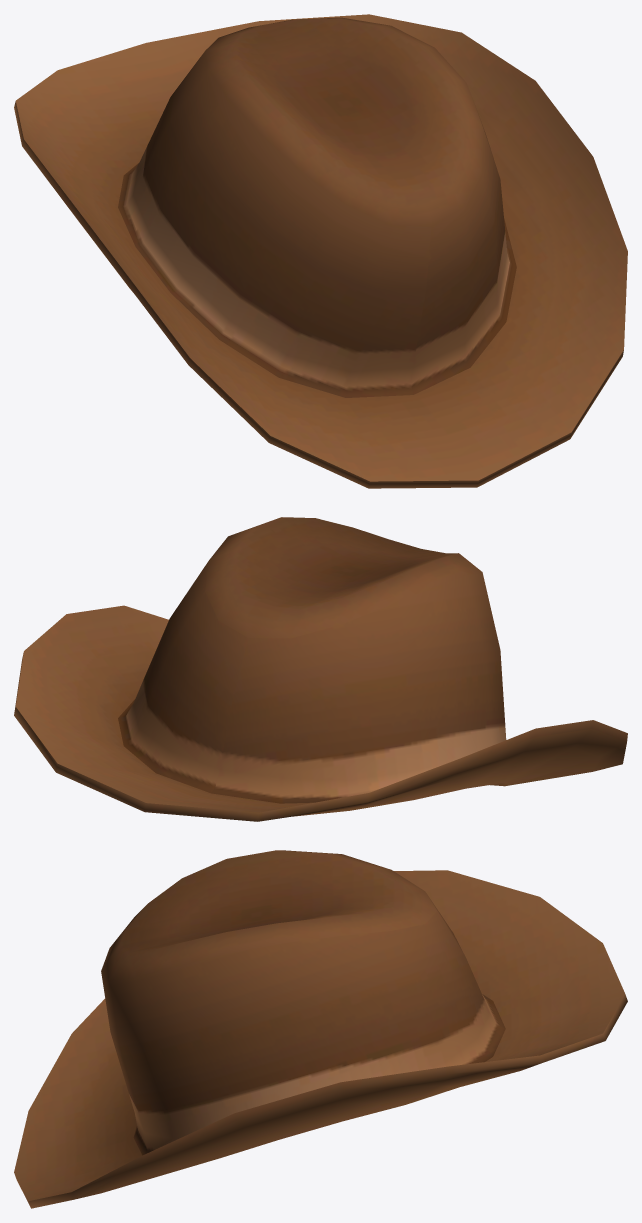
Rendered from IG_Helmat_Hat.fbx.
The picture shows the model from 3 angles, top to bottom: view 1: azimuth 30°, elevation 25°; view 2: azimuth 150°, elevation 25°; view 3: azimuth 270°, elevation 25°; orthographic projection. The views are drawn at different scales.
Parts seen in each view (by area): view 1: hat; view 2: hat; view 3: hat.
Part boxes in pixels (x1,y1,x2,y2): hat: (14,14,627,488); hat: (14,517,627,821); hat: (14,850,627,1208).
Size of the model in its own units: 0.7352 by 0.478 by 0.904.
